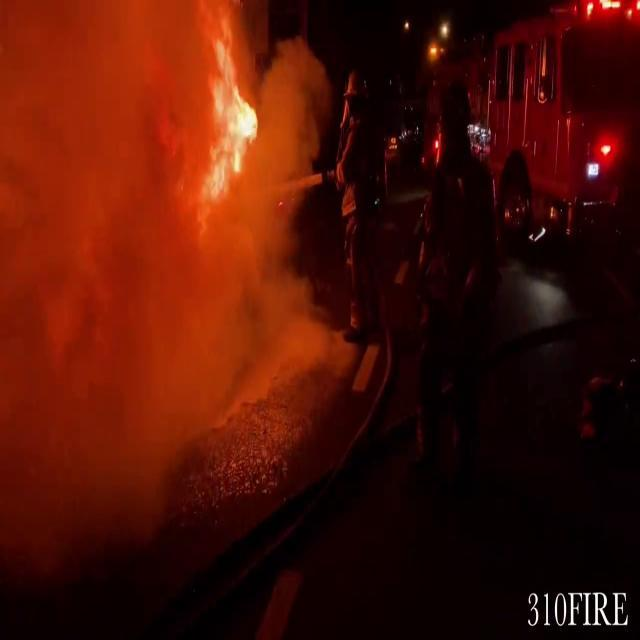Smoke: (0, 2, 331, 542)
